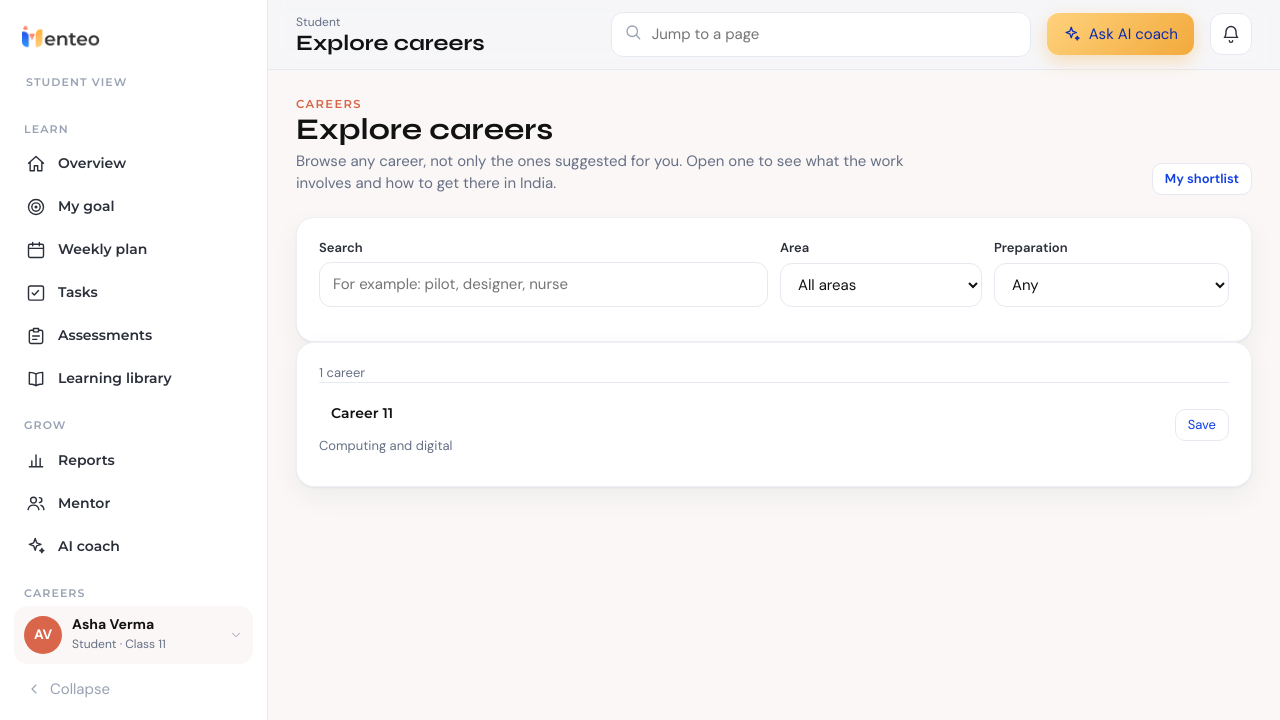
Scenario: my shortlist › says when the shortlist is full
The image size is (1280, 720).
Click the button with aria-label "save to my shortlist: career 11" at (1202, 424), box [1175,408,1229,440]
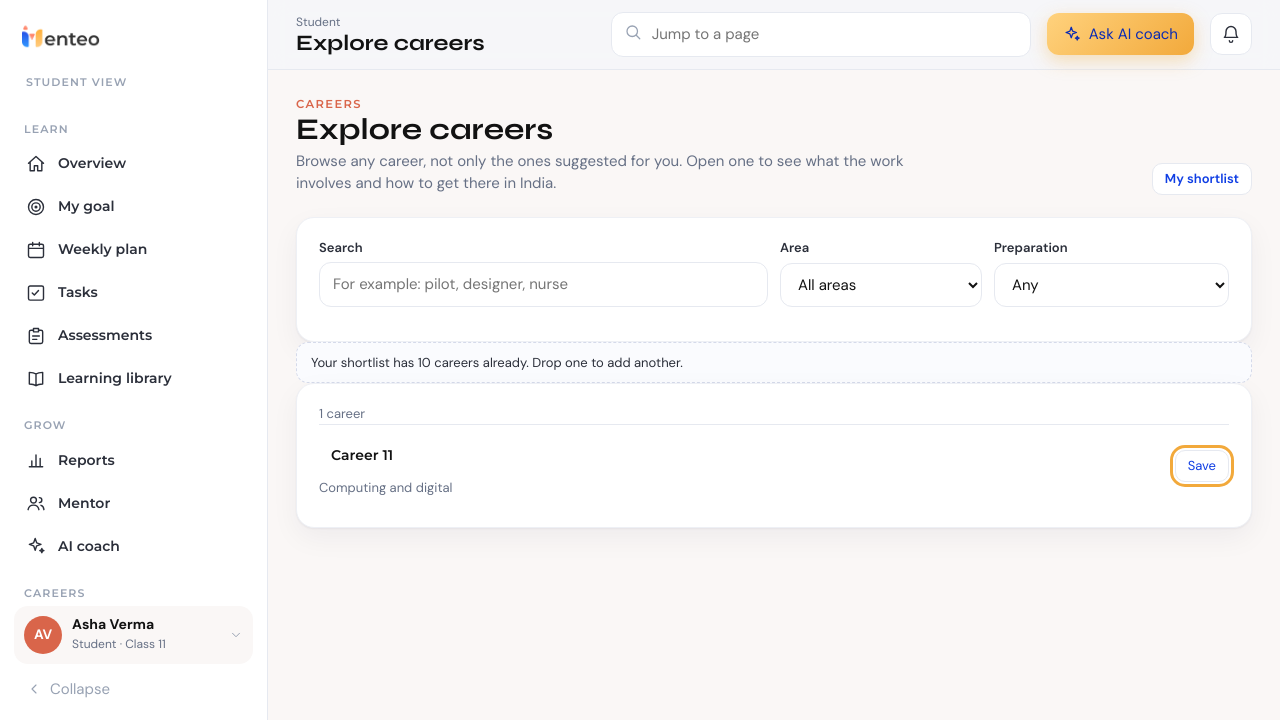
Expected: the text "Your shortlist has 10 careers already. Drop one to add another." is shown, [296,342,1252,383]
